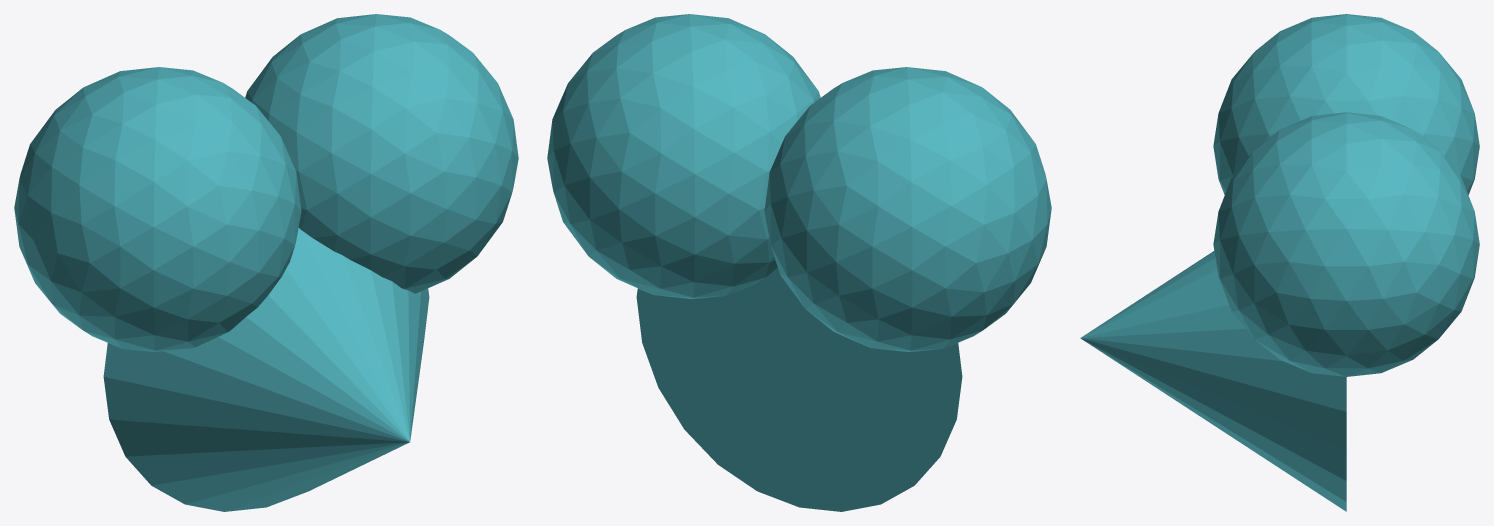
The model's file is love_010.glb.
3 renders of one model, left to right at view 1: azimuth 30°, elevation 25°; view 2: azimuth 150°, elevation 25°; view 3: azimuth 270°, elevation 25°, orthographic. The views are drawn at different scales.
Visible parts, largest first — view 1: world; view 2: world; view 3: world.
Boxes of the visible parts, box(x1,y1,x2,y2) form: world: box(14, 14, 518, 511); world: box(547, 14, 1051, 511); world: box(1080, 14, 1479, 511).
Bounding box in the file's own units: 2.06 × 1.92 × 1.65.
